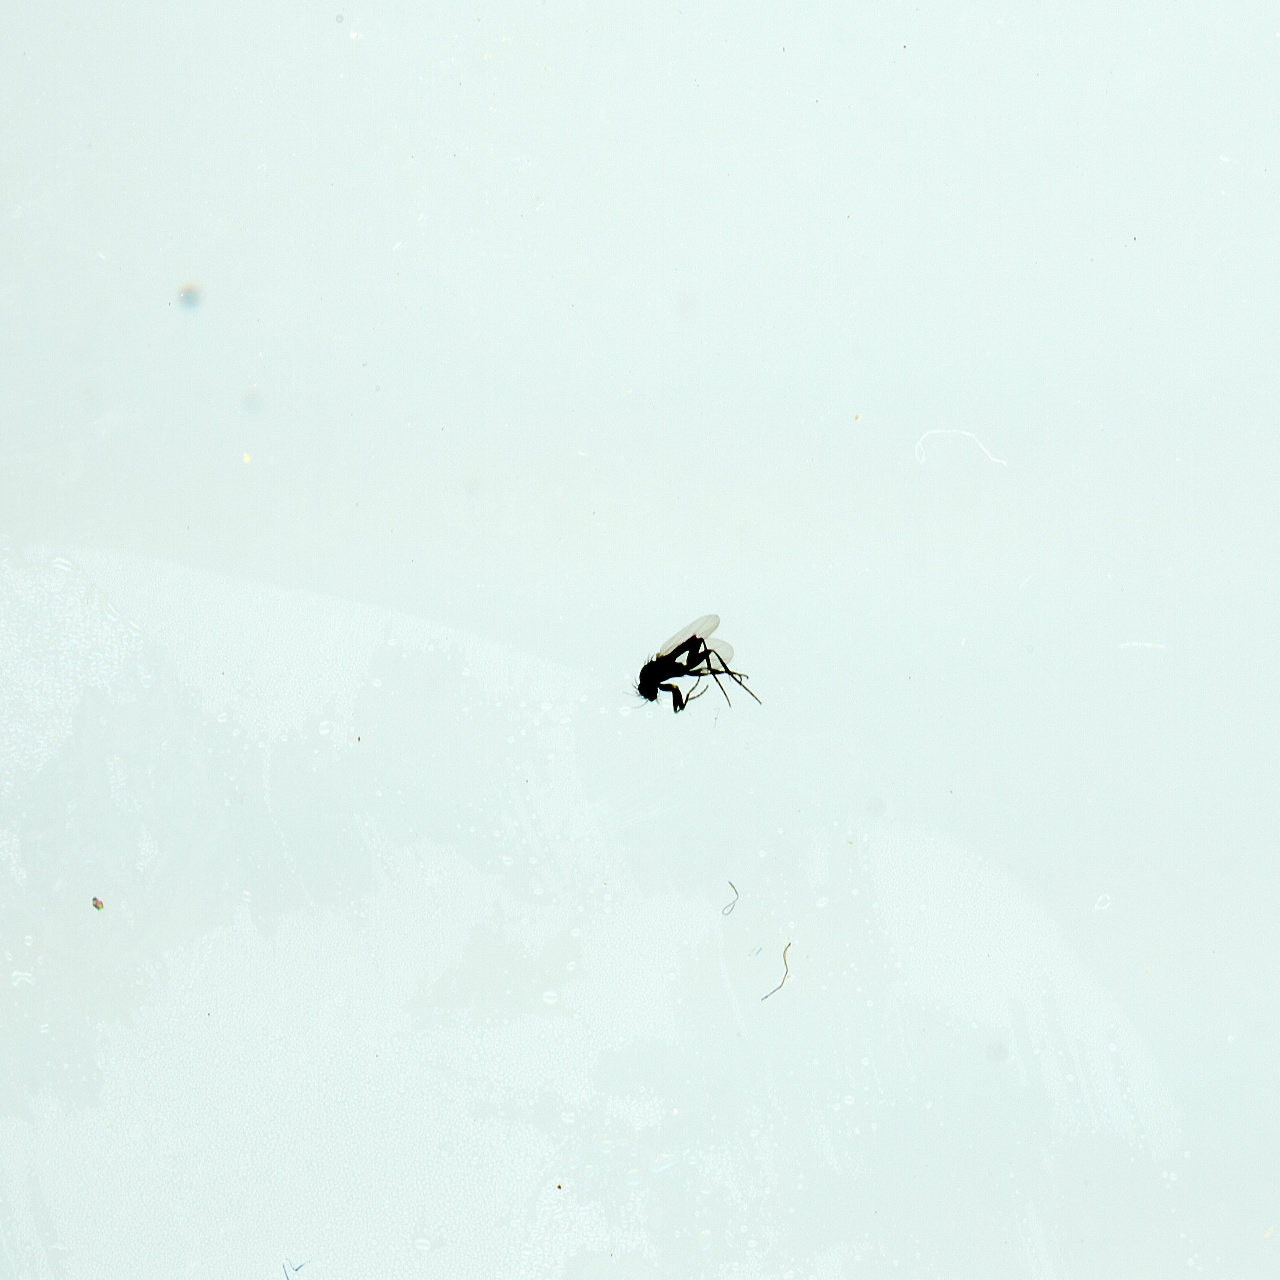arthropod: (617, 611, 764, 717)
